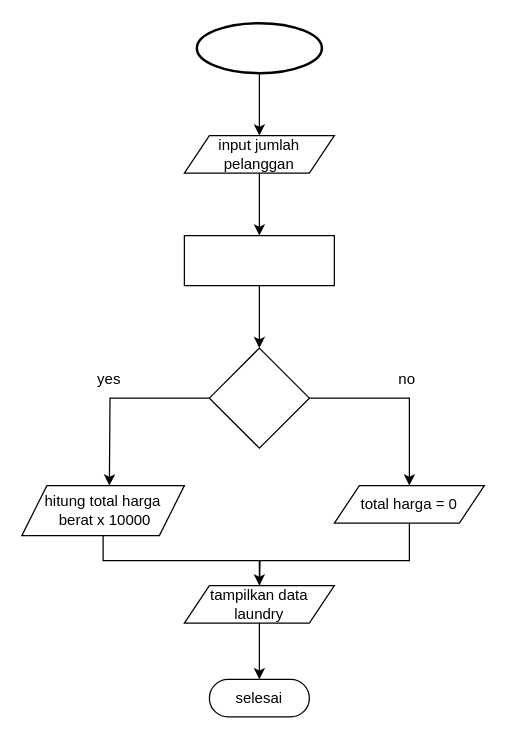
The diagram is 506 pixels wide and 739 high, and some of its shapes have lost their labels. The shapes that lost their labels are listed below. From the top down, each one's box as (x1, y1, x2, y2) in pixels, then its label:
(195, 21, 322, 74): mulai
(183, 234, 334, 286): loop: input nama dan berat loundry
(208, 347, 309, 448): berat > 0?
